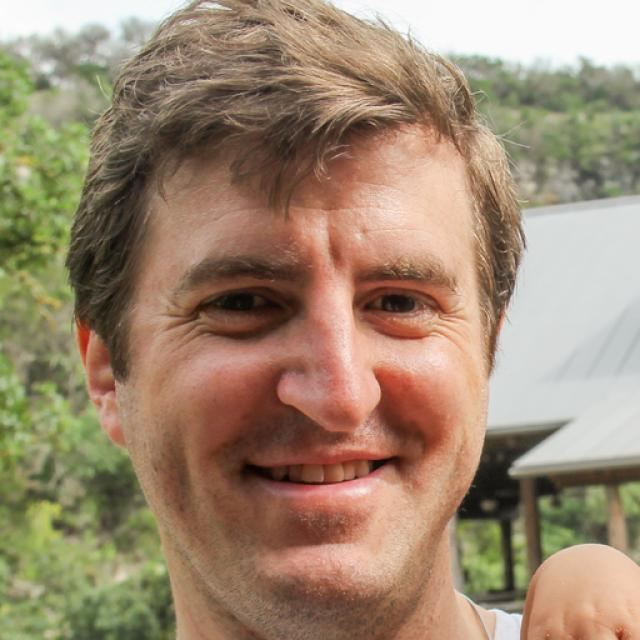happy: (119, 117, 489, 614)
